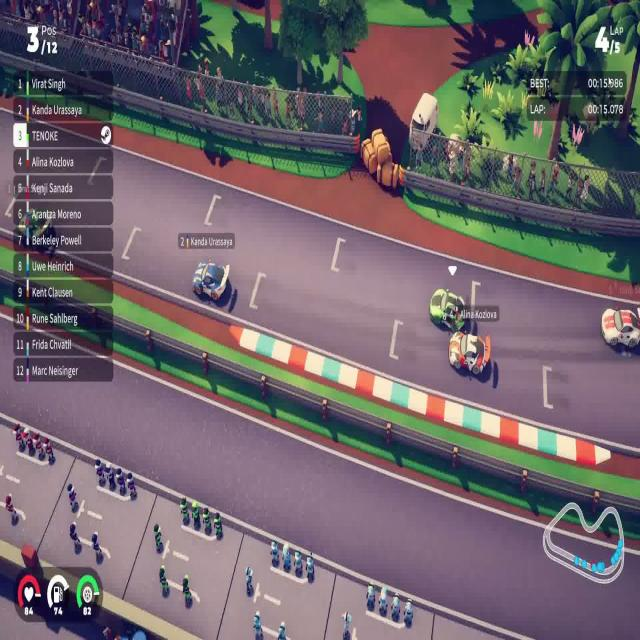car: (447, 322, 491, 377), (600, 305, 640, 351), (191, 258, 230, 302), (428, 287, 466, 332)
